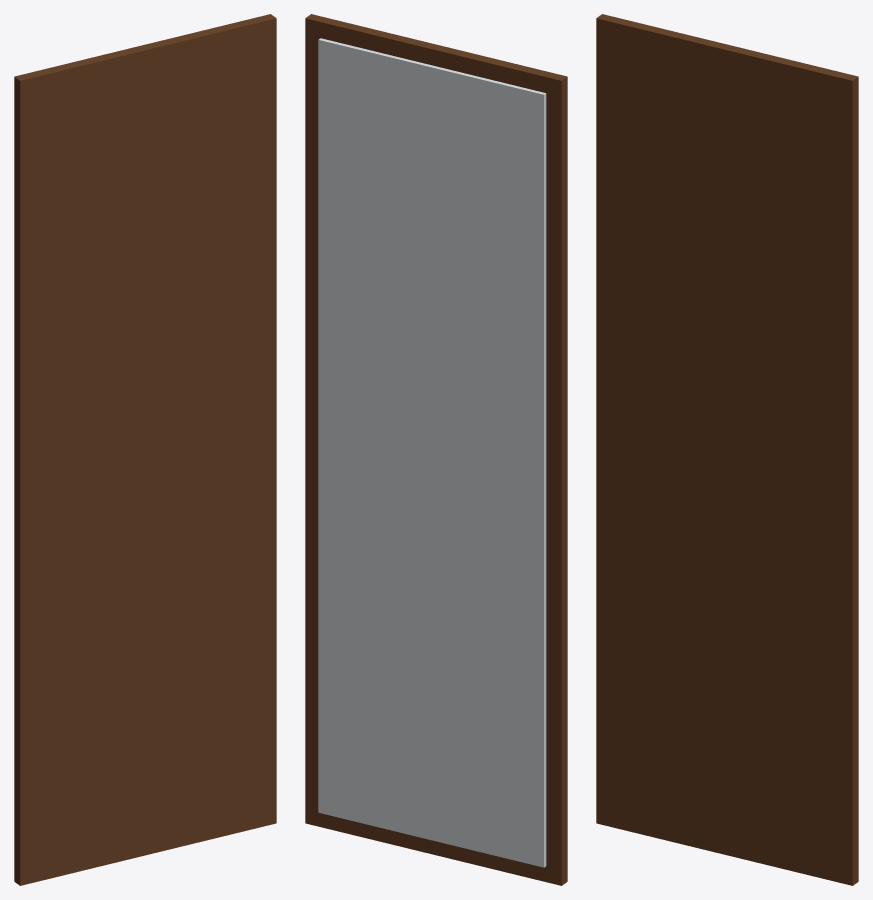
File: furniture.home.mirror.glb
The picture shows the model from 3 angles, left to right: view 1: azimuth 30°, elevation 25°; view 2: azimuth 150°, elevation 25°; view 3: azimuth 330°, elevation 25°; orthographic projection.
Parts seen in each view (by area): view 1: main__hardwood; view 2: main__mirror, main__hardwood; view 3: main__hardwood.
Part boxes in pixels (bbox=[...]): main__hardwood: bbox=[14, 14, 276, 885]; main__mirror: bbox=[318, 38, 546, 867]; main__hardwood: bbox=[305, 14, 567, 885]; main__hardwood: bbox=[596, 14, 858, 885].
Size of the model in its own units: 0.5 by 1.5 by 0.0275.
